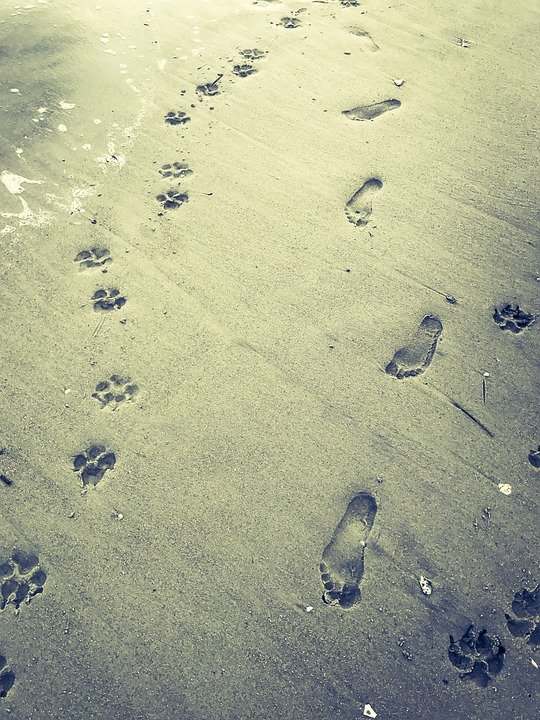human_foot_print: (289, 482, 394, 614), (380, 279, 450, 399), (446, 612, 502, 695), (339, 158, 392, 244), (476, 274, 530, 346), (334, 86, 416, 128), (0, 537, 47, 608), (80, 360, 146, 407), (68, 427, 116, 483), (76, 275, 135, 319), (144, 182, 196, 211), (78, 238, 128, 266), (157, 100, 196, 134)
